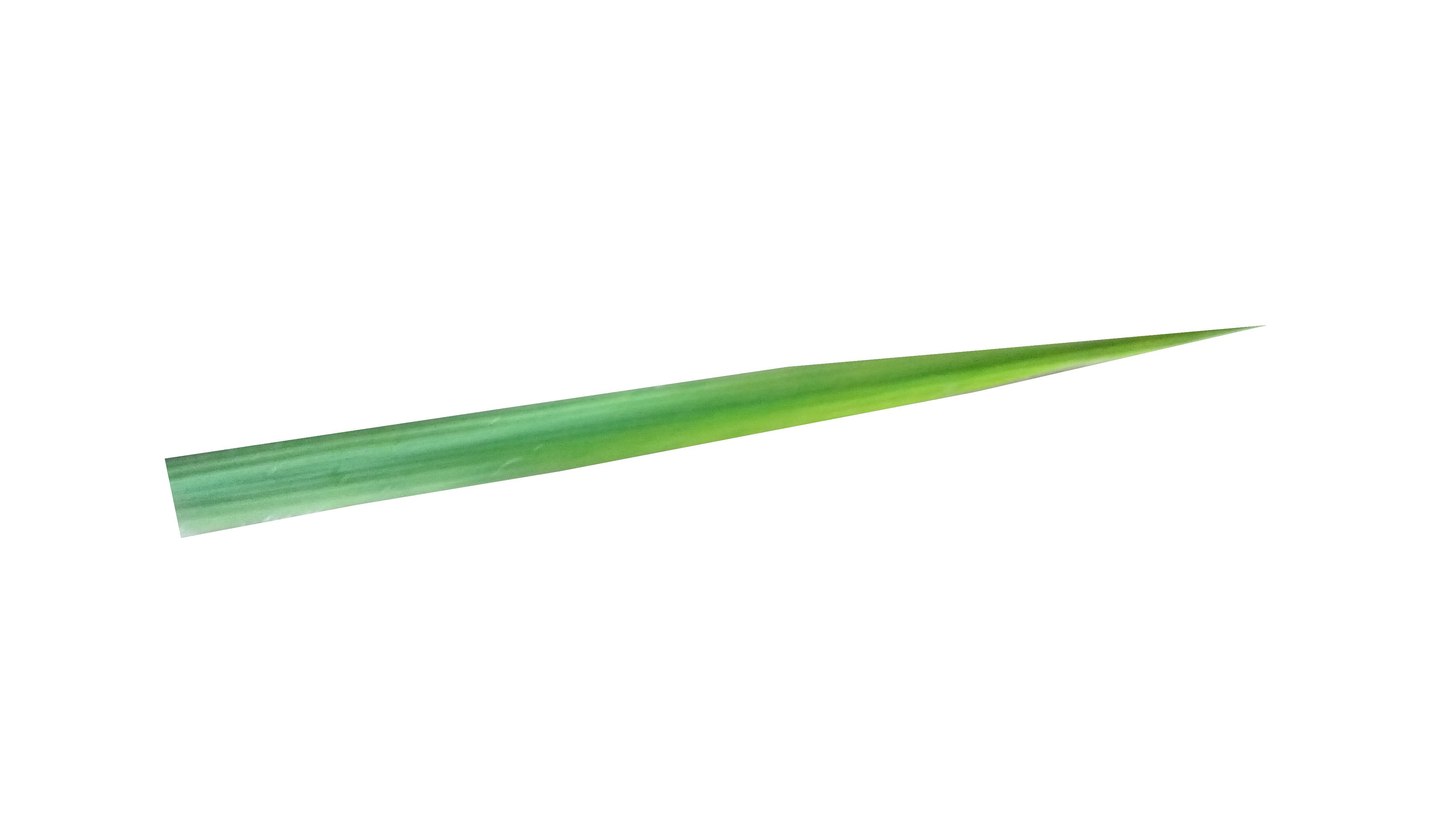Tungro: (563, 347, 1170, 474)
